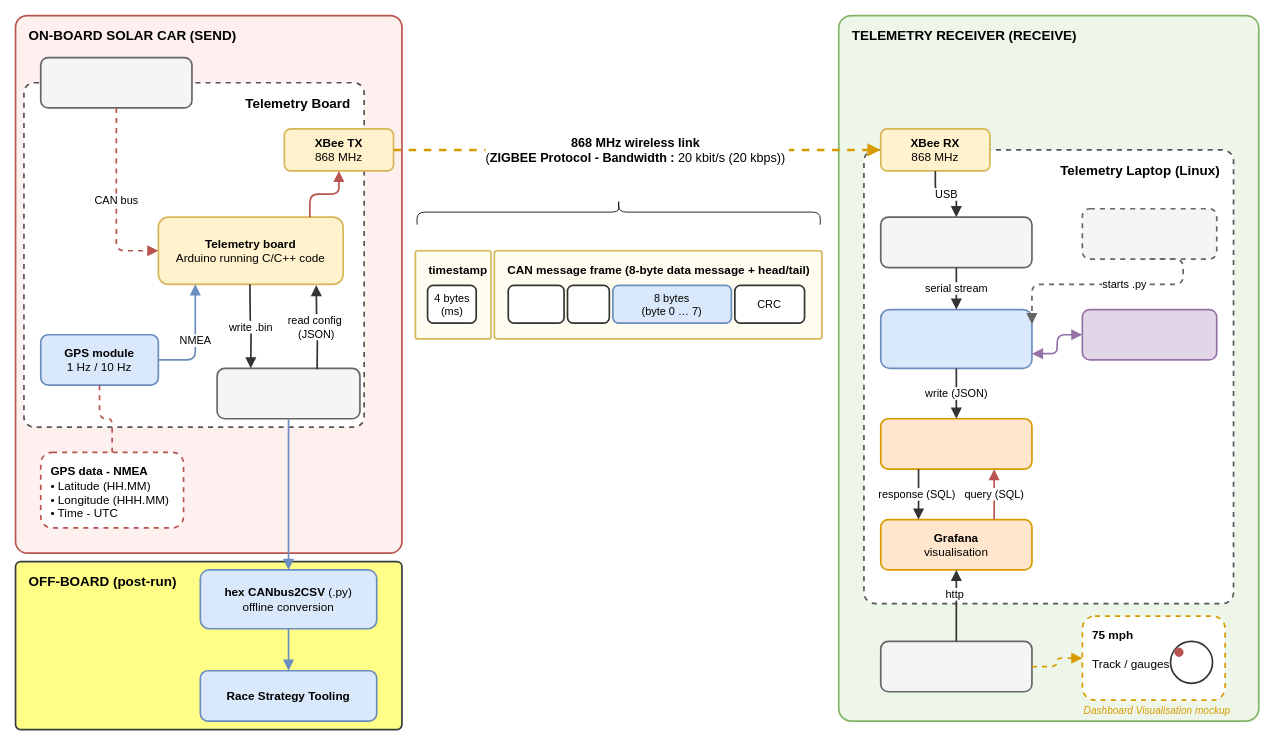
Some shapes in this 1273 by 744 pixel diagram are drawn without their labels. Here are the shapes that lost their labels. From the top down, the centre of each, then its label:
At [115,82]: "CAN bus vehicle nodes (125 kbps)".
At [955,242]: "/dev/ttyUSB0 serial port".
At [1149,233]: "RunTelem.sh shell launcher".
At [535,304]: "START".
At [588,304]: "ID".
At [955,338]: "Python launch script (module)".
At [1149,334]: ".CSV/BIN CAN decoder".
At [288,393]: "SD card CAN bus log (.bin)".
At [955,443]: "InfluxDB time-series database".
At [955,666]: "Web browser dashboard UI".
